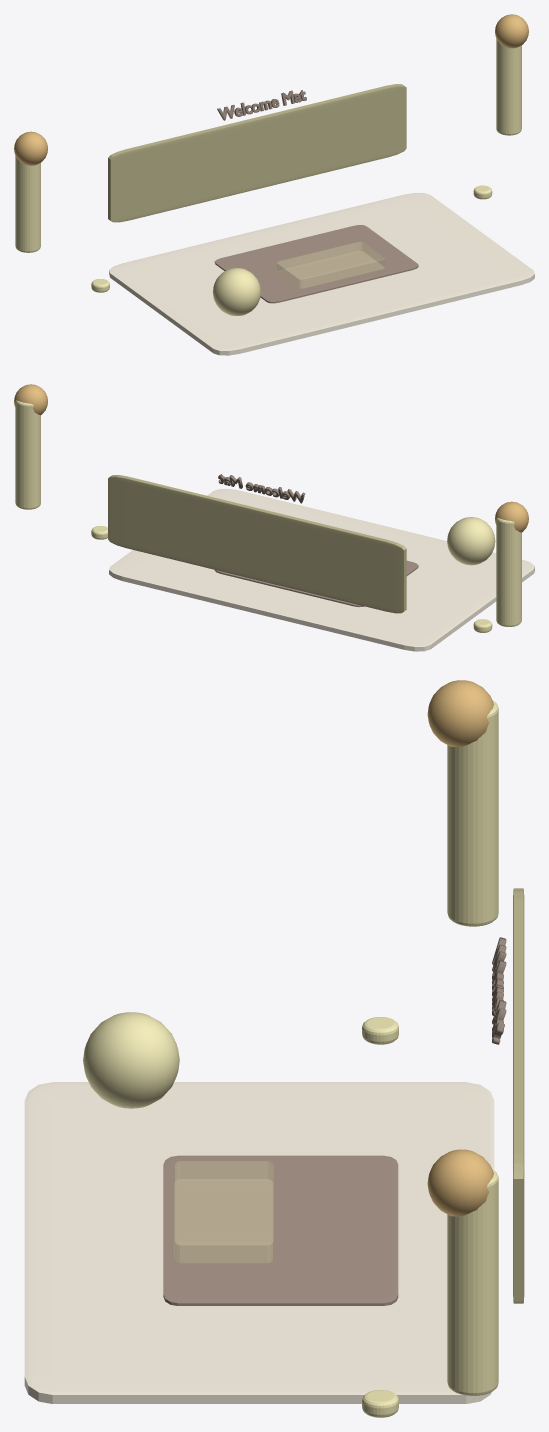
Rendered from 03_triggers.glb.
The picture shows the model from 3 angles, top to bottom: view 1: azimuth 30°, elevation 25°; view 2: azimuth 150°, elevation 25°; view 3: azimuth 270°, elevation 25°; orthographic projection. The views are drawn at different scales.
Visible parts, largest first — view 1: PaperFloor-col, BackCard, StageMat, WelcomeMatTrigger, PaperLantern, PaperLantern.001, FpeRushPlayer, LanternGlow, LanternGlow.001, TitleLabel; view 2: BackCard, PaperFloor-col, PaperLantern.001, PaperLantern, FpeRushPlayer, TitleLabel, LanternGlow, LanternGlow.001, StageMat; view 3: PaperFloor-col, StageMat, WelcomeMatTrigger, PaperLantern, PaperLantern.001, FpeRushPlayer, BackCard, LanternGlow.001, LanternGlow, TitleLabel, CardConfetti, CardConfetti.001.
Part boxes in pixels (<box>): PaperFloor-col: <box>109,193,534,355</box>; BackCard: <box>108,84,406,222</box>; StageMat: <box>214,225,418,303</box>; WelcomeMatTrigger: <box>277,242,384,288</box>; PaperLantern: <box>15,155,40,252</box>; PaperLantern.001: <box>496,38,521,135</box>; FpeRushPlayer: <box>212,268,260,315</box>; LanternGlow: <box>14,131,47,165</box>; LanternGlow.001: <box>495,14,528,48</box>; TitleLabel: <box>217,90,306,120</box>; BackCard: <box>108,475,406,613</box>; PaperFloor-col: <box>109,489,534,651</box>; PaperLantern.001: <box>15,400,40,509</box>; PaperLantern: <box>496,518,521,626</box>; FpeRushPlayer: <box>447,517,495,565</box>; TitleLabel: <box>218,474,305,503</box>; LanternGlow: <box>495,501,528,532</box>; LanternGlow.001: <box>14,384,47,415</box>; StageMat: <box>214,560,418,607</box>; PaperFloor-col: <box>24,1082,494,1403</box>; StageMat: <box>163,1155,398,1305</box>; WelcomeMatTrigger: <box>174,1161,273,1262</box>; PaperLantern: <box>447,700,498,926</box>; PaperLantern.001: <box>447,1169,498,1395</box>; FpeRushPlayer: <box>83,1012,179,1108</box>; BackCard: <box>513,888,524,1303</box>; LanternGlow.001: <box>427,1149,493,1216</box>; LanternGlow: <box>427,680,493,747</box>; TitleLabel: <box>492,937,506,1044</box>; CardConfetti: <box>362,1017,398,1044</box>; CardConfetti.001: <box>362,1390,398,1417</box>.
Bounding box in the file's own units: 8.28 × 2.56 × 3.51.
